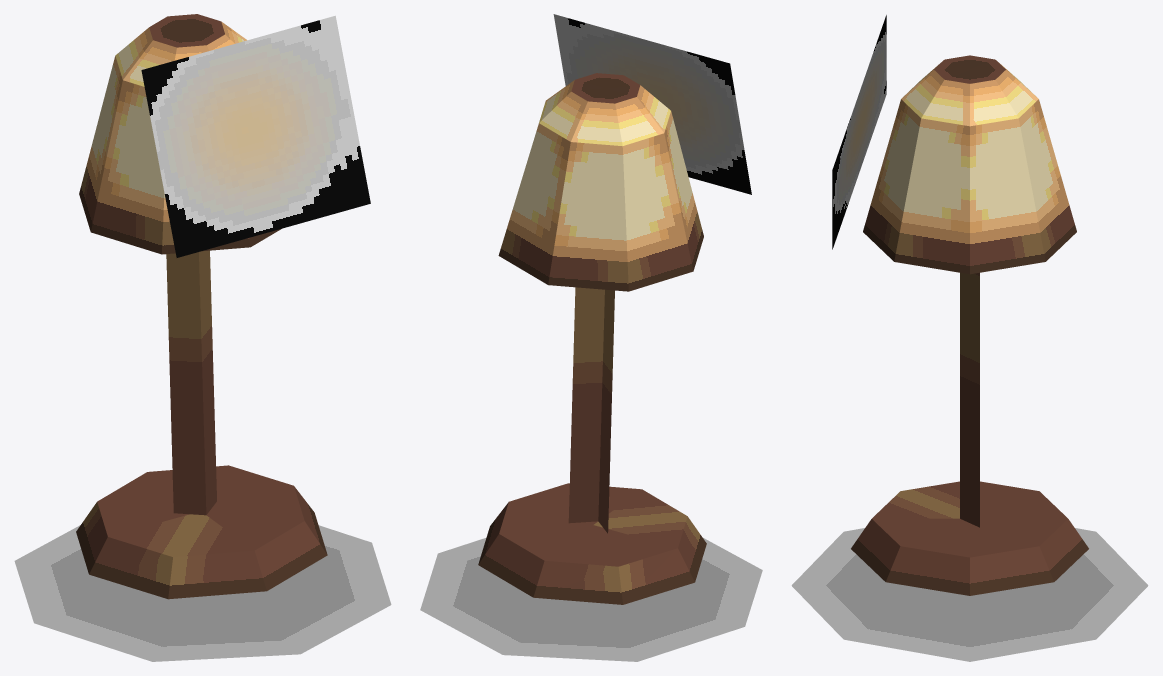
The picture shows the model from 3 angles, left to right: view 1: azimuth 30°, elevation 25°; view 2: azimuth 150°, elevation 25°; view 3: azimuth 270°, elevation 25°; orthographic projection. The views are drawn at different scales.
Parts seen in each view (by area): view 1: polygon1, polygon2, polygon0; view 2: polygon1, polygon0, polygon2; view 3: polygon1, polygon0, polygon2.
Boxes of the visible parts, x1,y1,x2,y2 form: polygon1: (76, 14, 327, 599); polygon2: (141, 15, 370, 257); polygon0: (14, 525, 391, 661); polygon1: (478, 73, 706, 604); polygon0: (420, 538, 762, 661); polygon2: (553, 14, 751, 194); polygon1: (851, 55, 1088, 595); polygon0: (791, 528, 1148, 661); polygon2: (832, 15, 886, 249).
Size of the model in its own units: 2.43 by 3.98 by 2.43.
